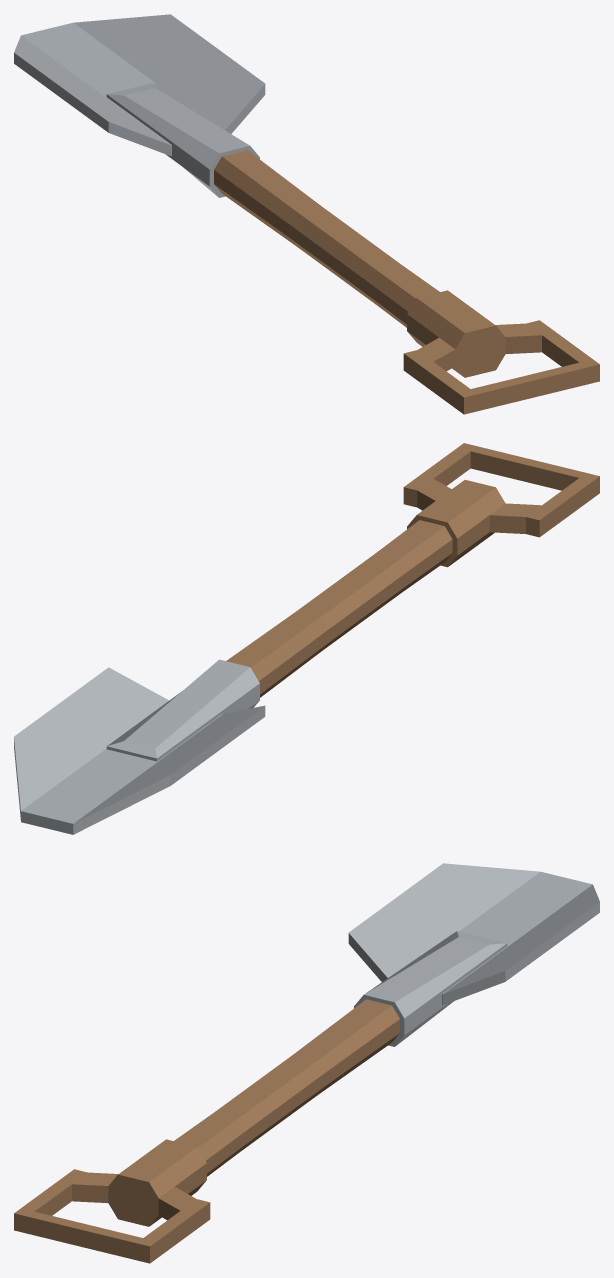
File: SM_FP_Shovel.glb
3 renders of one model, top to bottom at view 1: azimuth 30°, elevation 25°; view 2: azimuth 150°, elevation 25°; view 3: azimuth 330°, elevation 25°, orthographic.
Visible parts, largest first — view 1: SM_FP_Shovel; view 2: SM_FP_Shovel; view 3: SM_FP_Shovel.
Boxes of the visible parts, <box> form: SM_FP_Shovel: <box>14,14,599,414</box>; SM_FP_Shovel: <box>14,443,599,834</box>; SM_FP_Shovel: <box>14,863,599,1263</box>.
Bounding box in the file's own units: 0.2 × 0.069 × 1.07.
